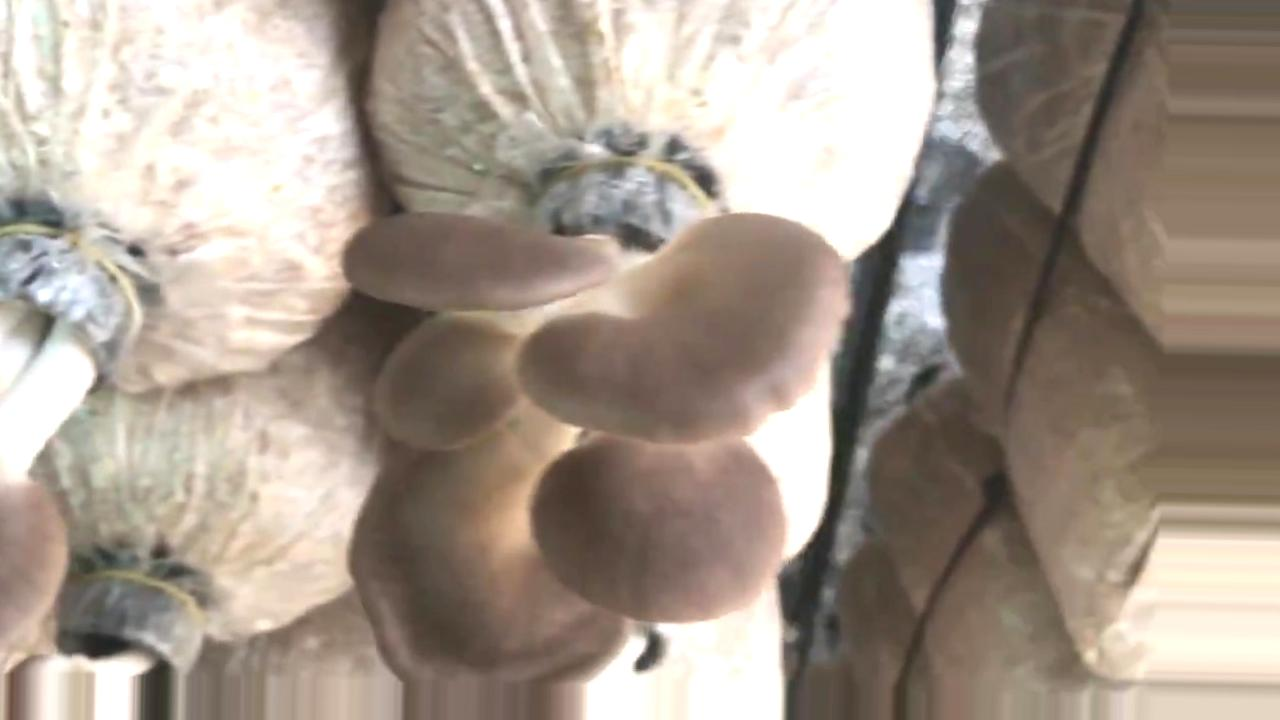nam: (345, 162, 844, 720), (1, 213, 137, 639)
